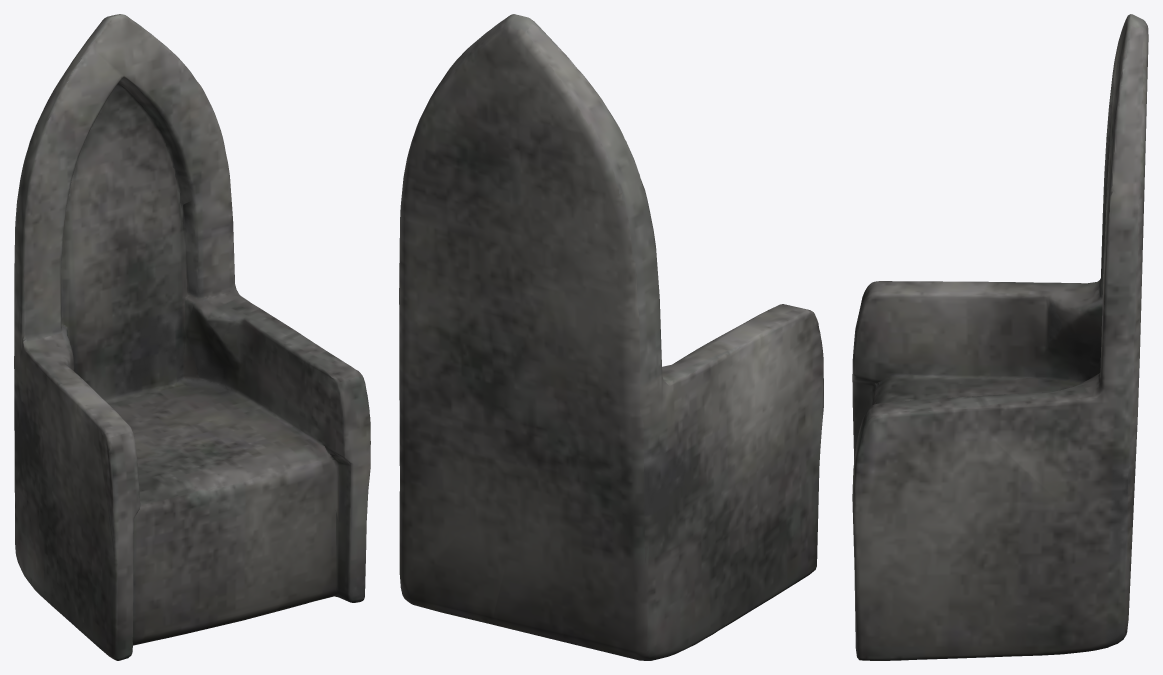
The model's file is worn-granite-throne-v002.glb.
3 renders of one model, left to right at view 1: azimuth 30°, elevation 25°; view 2: azimuth 150°, elevation 25°; view 3: azimuth 270°, elevation 25°, orthographic. The views are drawn at different scales.
Visible parts, largest first — view 1: worn-granite-throne; view 2: worn-granite-throne; view 3: worn-granite-throne.
Boxes of the visible parts, left/top/right/bottom form: worn-granite-throne: left=14, top=14, right=370, bottom=660; worn-granite-throne: left=399, top=14, right=823, bottom=660; worn-granite-throne: left=852, top=14, right=1148, bottom=660.
Size of the model in its own units: 0.758 by 1.47 by 0.6822.
1 material, 1 textured.
